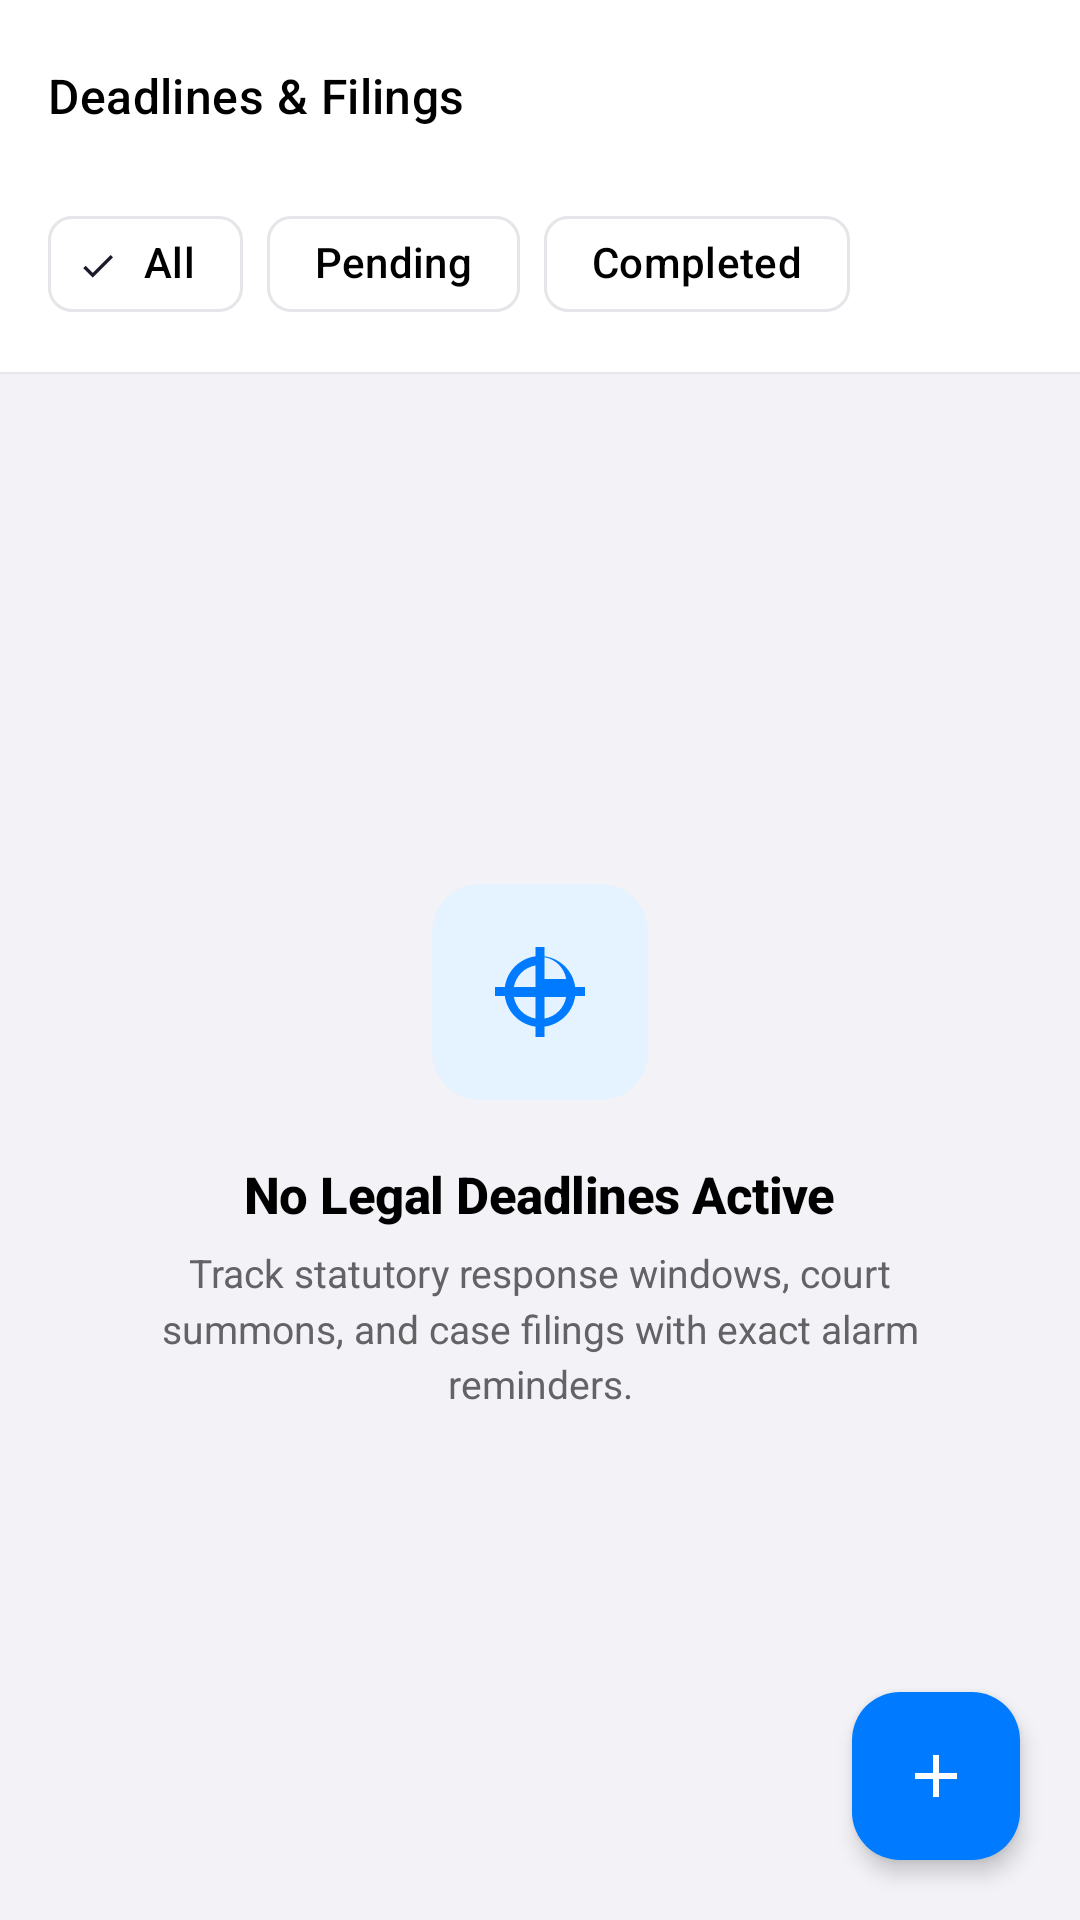

Icons on this 1080 × 1920 Android screen, each with the point to tap as (x,y):
New Deadline: (936,1776)
